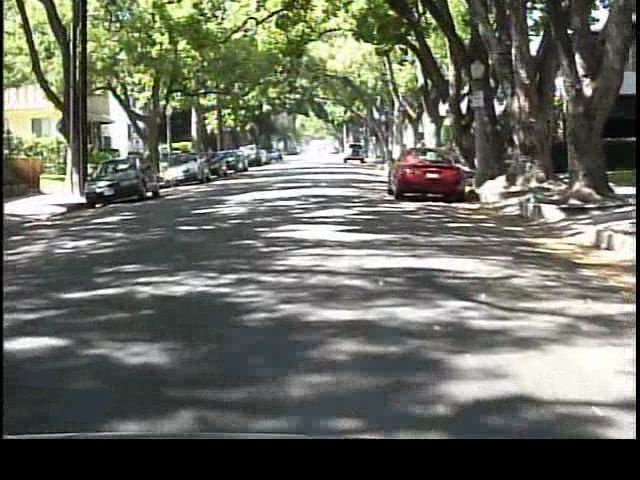person: (144, 144, 165, 185)
